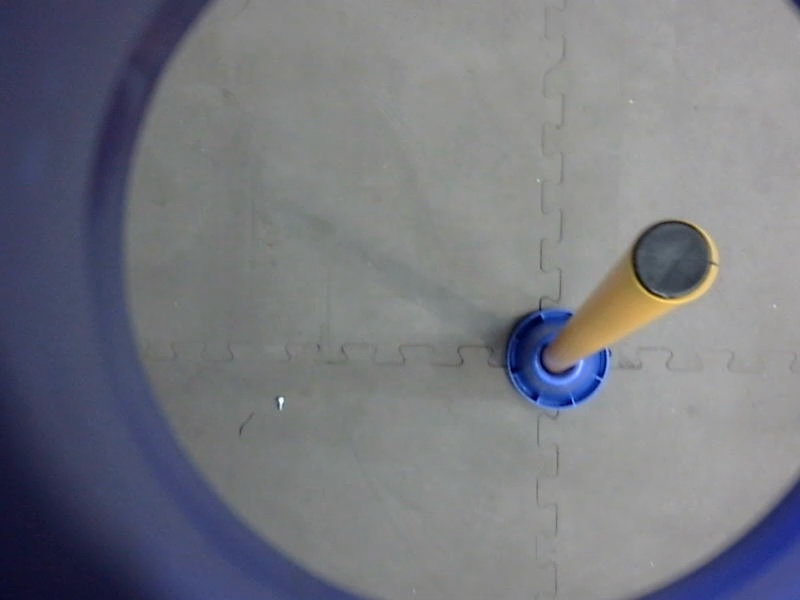tip: (621, 212, 726, 314)
